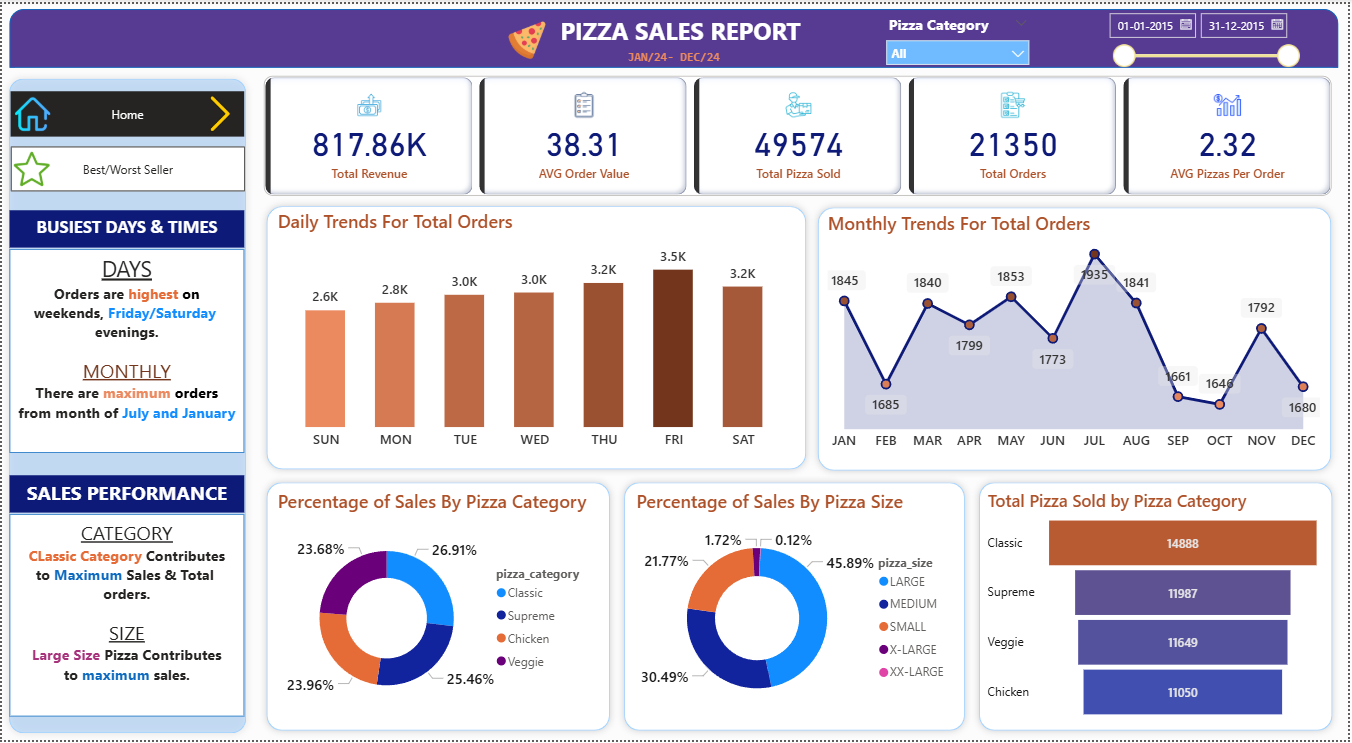

The page's visual inventory and layout, read from the dashboard file:
{"tool":"powerbi","page":{"name":"Home","canvas":[1500,820],"ordinal":0},"visuals":[{"type":"shape","box":[0,75.2,279.9,745.1],"z":0},{"type":"cardVisual","fields":{"Data":["pizza_sales.Total Revenue","pizza_sales.AVG Order Value","pizza_sales.Total Pizza Sold","pizza_sales.Total Orders","pizza_sales.AVG Pizza Per Order"]},"box":[286.9,75.2,1199.1,143.4],"z":1000},{"type":"shape","box":[8.4,5.6,1480.4,65.5],"z":2000},{"type":"textbox","box":[617,7,305,47.4],"z":3000},{"type":"textbox","box":[692.2,44.6,115.6,30.6],"z":4000},{"type":"image","box":[552.9,13.9,64.1,52.9],"z":5000},{"type":"shape","box":[286.9,217.3,617,309.2],"z":6000},{"type":"columnChart","title":"Daily Trends For Total Orders","fields":{"Category":["pizza_sales.Order Day"],"Y":["pizza_sales.Total Orders"]},"box":[302.2,228.4,583.5,277.1],"z":7000},{"type":"shape","box":[901.1,218.6,587.7,309.2],"z":8000},{"type":"areaChart","title":"Monthly Trends For Total Orders","fields":{"Category":["pizza_sales.Order Month"],"Y":["pizza_sales.Total Orders"]},"box":[915,229.8,558.5,277.1],"z":9000},{"type":"shape","box":[286.9,525,398.3,292.5],"z":10000},{"type":"shape","box":[685.2,525,395.5,292.5],"z":11000},{"type":"shape","box":[1080.7,525,409.4,292.5],"z":12000},{"type":"donutChart","title":"Percentage of Sales By Pizza Category","fields":{"Category":["pizza_sales.pizza_category"],"Y":["pizza_sales.Total Revenue"]},"box":[302.2,540.4,362.1,261.8],"z":13000},{"type":"donutChart","title":"Percentage of Sales By Pizza Size","fields":{"Y":["pizza_sales.Total Revenue"],"Category":["pizza_sales.pizza_size"]},"box":[701.9,540.4,362.1,261.8],"z":14000},{"type":"funnel","title":"Total Pizza Sold by Pizza Category","fields":{"Category":["pizza_sales.pizza_category"],"Y":["pizza_sales.Total Pizza Sold"]},"box":[1093.2,540.4,381.6,261.8],"z":15000},{"type":"textbox","box":[8.4,229.8,261.8,41.8],"z":16000},{"type":"textbox","box":[8.4,273,261.8,227],"z":17000},{"type":"textbox","box":[8.4,525,261.8,41.8],"z":18000},{"type":"textbox","box":[8.4,568.2,261.8,225.6],"z":19000},{"type":"slicer","fields":{"Values":["pizza_sales.pizza_category"]},"box":[974.9,7,179.7,61.3],"z":20000},{"type":"slicer","fields":{"Values":["pizza_sales.order_date"]},"box":[1221.4,0,232.6,75.2],"z":21000},{"type":"pageNavigator","box":[9.7,97.5,260.4,50.1],"z":22000},{"type":"pageNavigator","box":[9.7,158.8,261.8,50.1],"z":23000},{"type":"image","box":[215.9,97.5,54.3,50.1],"z":24000},{"type":"image","box":[9.7,97.5,48.7,50.1],"z":24001},{"type":"image","box":[8.4,157.4,50.1,52.9],"z":24002}]}

Visuals, with their boxes in screenshot pixels (x1, y1, x2, y2), scaled from the page's 1500x820 canvas onto the 1352x743 screenshot:
shape: 0, 68, 252, 742
cardVisual - pizza_sales.Total Revenue x pizza_sales.AVG Order Value: 259, 68, 1339, 198
shape: 8, 5, 1342, 64
textbox: 556, 6, 831, 49
textbox: 624, 40, 728, 68
image: 498, 13, 556, 61
shape: 259, 197, 815, 477
"Daily Trends For Total Orders" columnChart: 272, 207, 798, 458
shape: 812, 198, 1342, 478
"Monthly Trends For Total Orders" areaChart: 825, 208, 1328, 459
shape: 259, 476, 618, 741
shape: 618, 476, 974, 741
shape: 974, 476, 1343, 741
"Percentage of Sales By Pizza Category" donutChart: 272, 490, 599, 727
"Percentage of Sales By Pizza Size" donutChart: 633, 490, 959, 727
"Total Pizza Sold by Pizza Category" funnel: 985, 490, 1329, 727
textbox: 8, 208, 244, 246
textbox: 8, 247, 244, 453
textbox: 8, 476, 244, 514
textbox: 8, 515, 244, 719
slicer - pizza_sales.pizza_category: 879, 6, 1041, 62
slicer - pizza_sales.order_date: 1101, 0, 1311, 68
pageNavigator: 9, 88, 243, 134
pageNavigator: 9, 144, 245, 189
image: 195, 88, 244, 134
image: 9, 88, 53, 134
image: 8, 143, 53, 191
